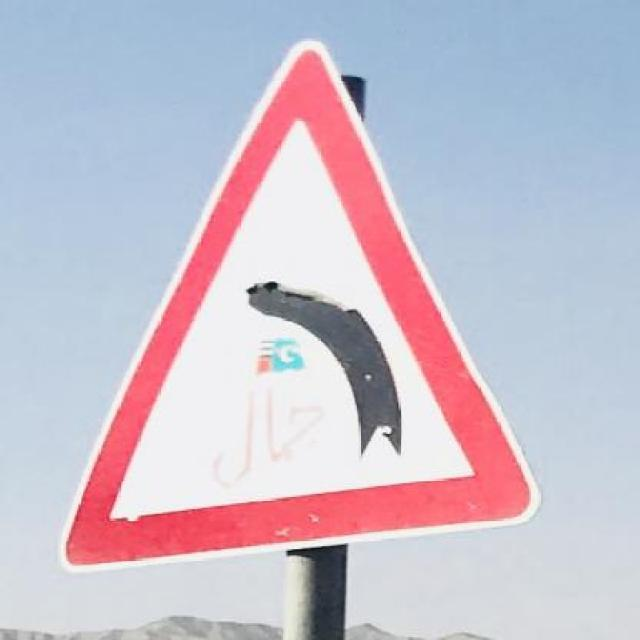left hand curve: (64, 44, 534, 567)
